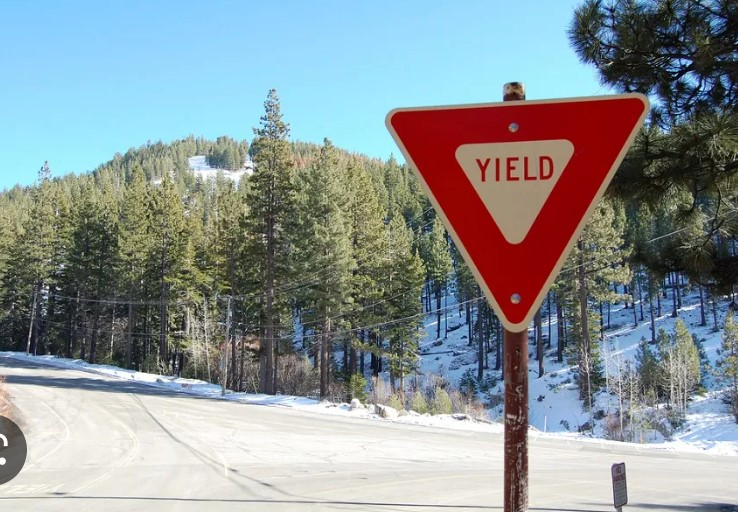Yeild: (377, 89, 655, 339)
